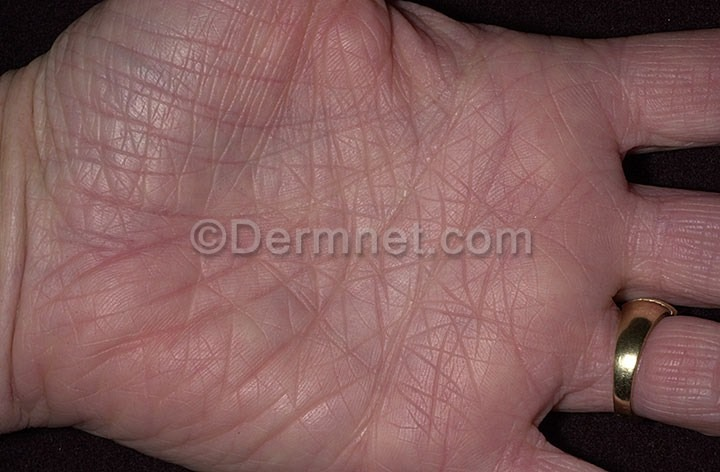Eczema: (378, 33, 504, 221), (644, 339, 717, 399)
